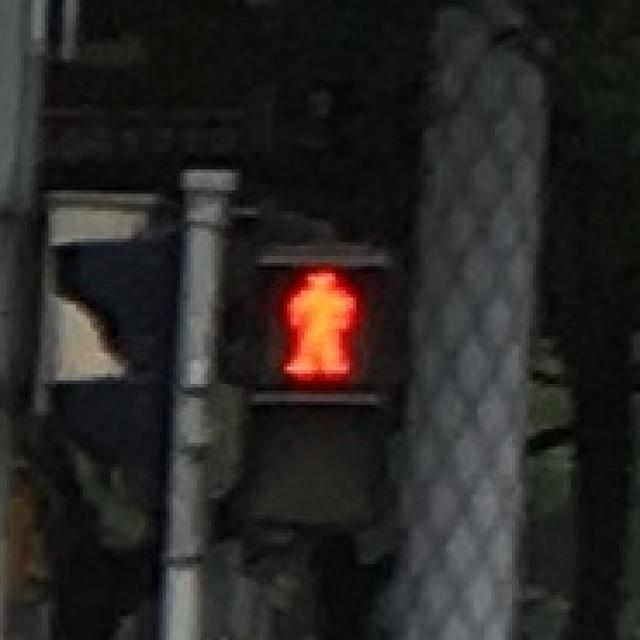red_light: (263, 259, 370, 384)
